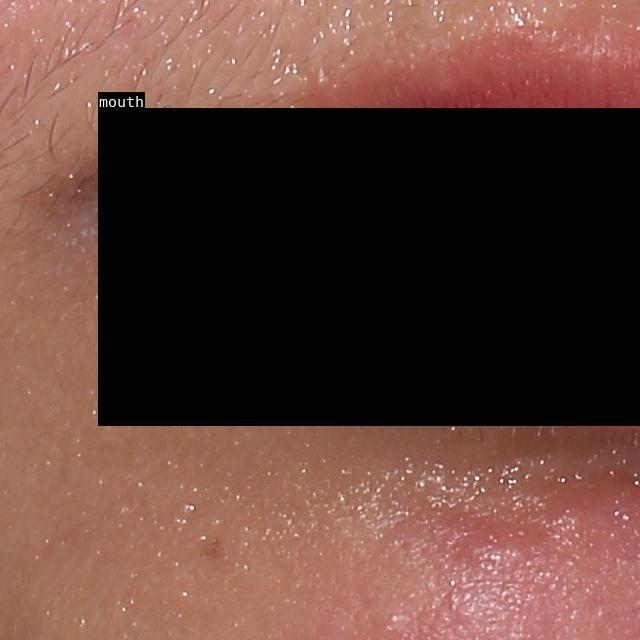papule: (457, 525, 531, 577)
